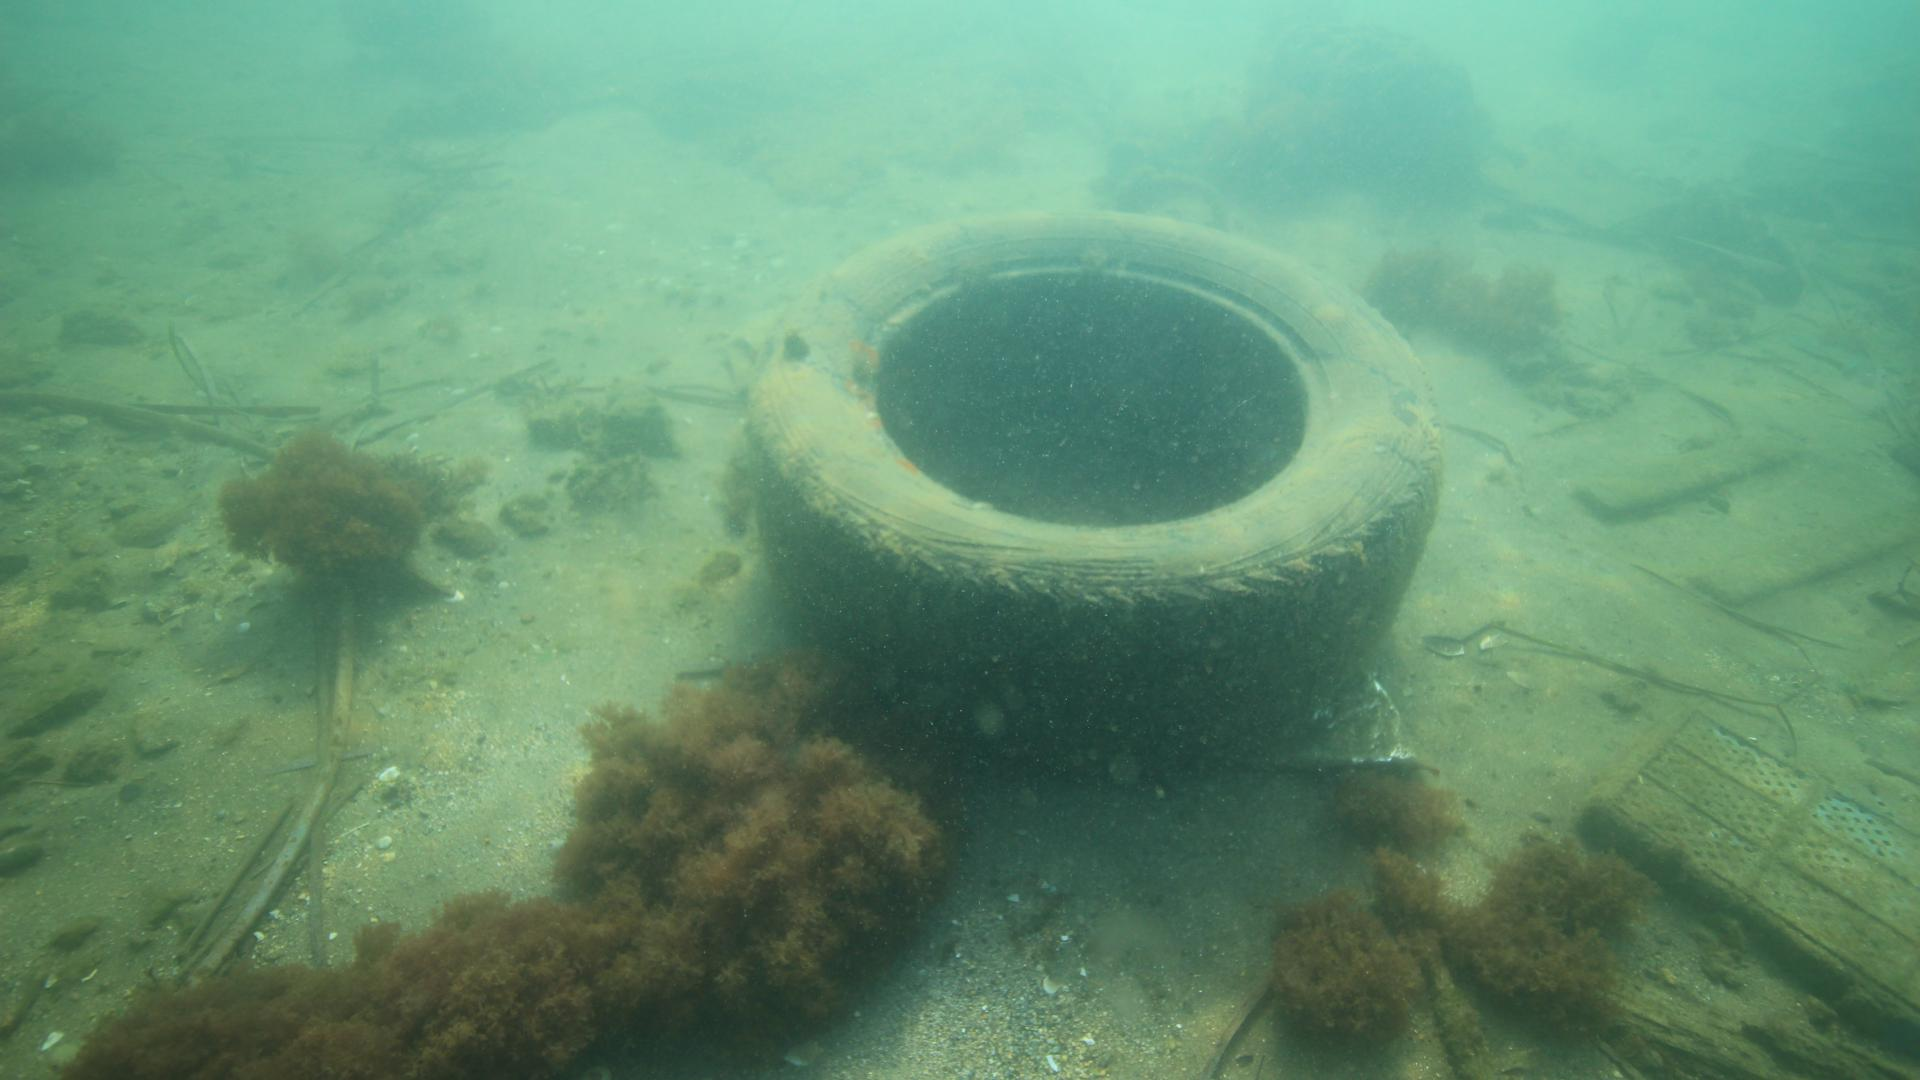tire: (744, 206, 1440, 789)
